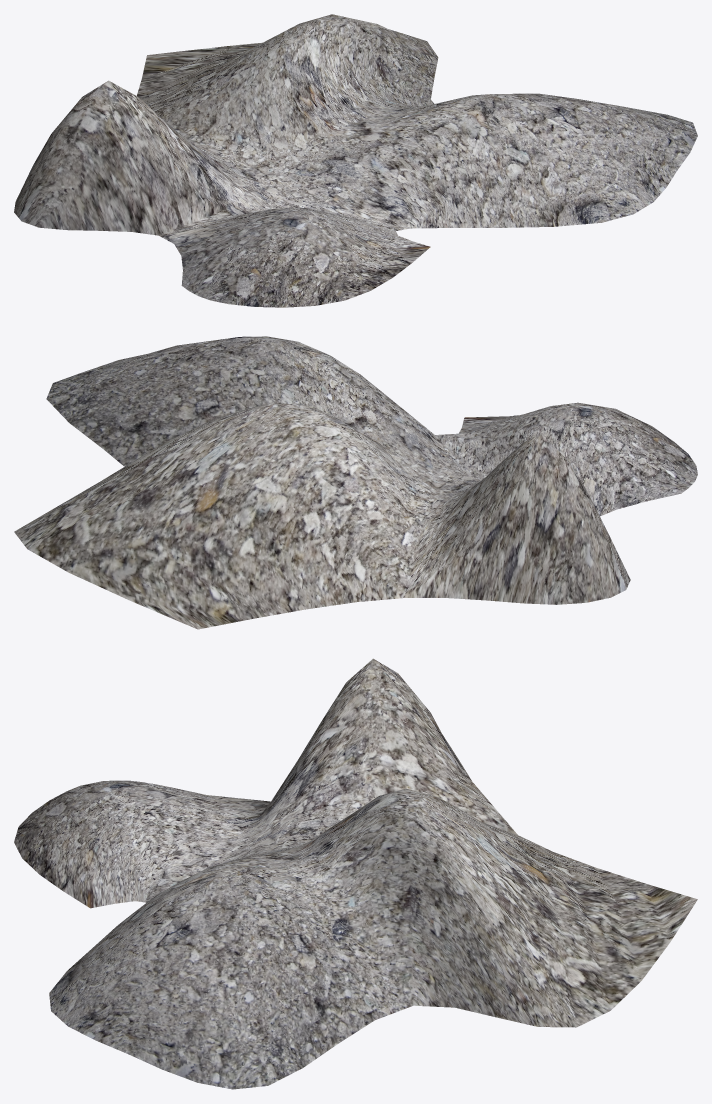
The model's file is Ashes_1.fbx.
3 renders of one model, top to bottom at view 1: azimuth 30°, elevation 25°; view 2: azimuth 150°, elevation 25°; view 3: azimuth 270°, elevation 25°, orthographic. The views are drawn at different scales.
Visible parts, largest first — view 1: polySurface3; view 2: polySurface3; view 3: polySurface3.
Boxes of the visible parts, left/top/right/bottom form: polySurface3: left=14, top=14, right=697, bottom=307; polySurface3: left=14, top=336, right=697, bottom=629; polySurface3: left=14, top=658, right=697, bottom=1089.
Bounding box in the file's own units: 92.06 × 19.4 × 79.24.
Materials: 1 (1 with a texture image).
